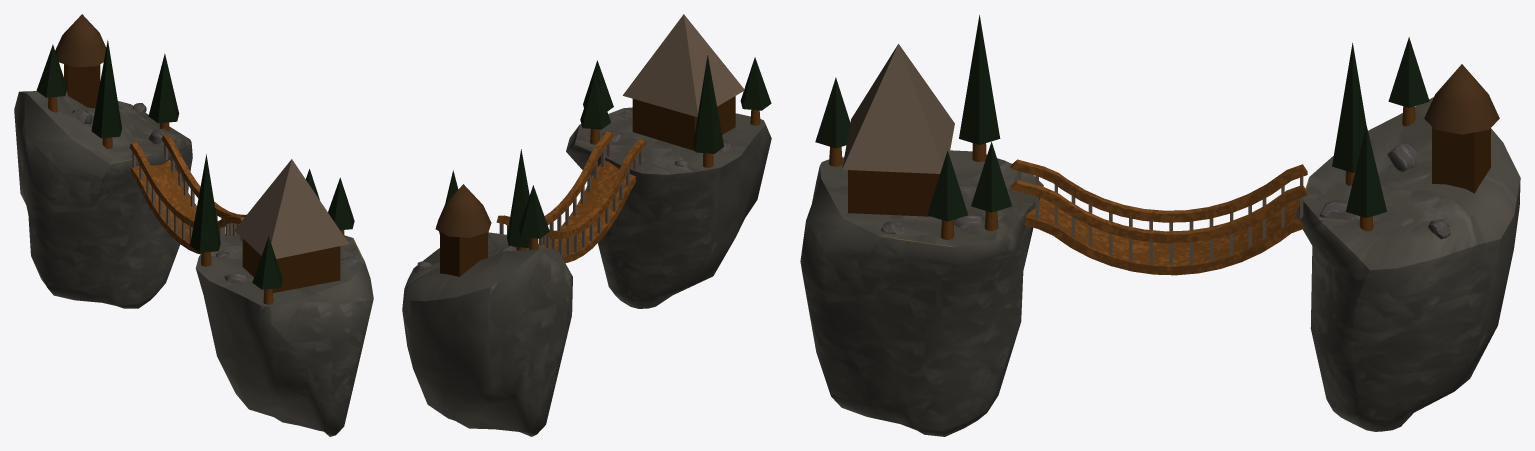
The model's file is illa3-1.fbx.
3 renders of one model, left to right at view 1: azimuth 30°, elevation 25°; view 2: azimuth 150°, elevation 25°; view 3: azimuth 270°, elevation 25°, orthographic. The views are drawn at different scales.
Parts seen in each view (by area): view 1: pCube57; view 2: pCube57; view 3: pCube57.
Part boxes in pixels (bbox=[...]): pCube57: bbox=[14, 14, 373, 436]; pCube57: bbox=[402, 14, 771, 436]; pCube57: bbox=[800, 15, 1520, 436].
Size of the model in its own units: 6.67 by 10.91 by 19.31.
Materials: 1 (1 with a texture image).
